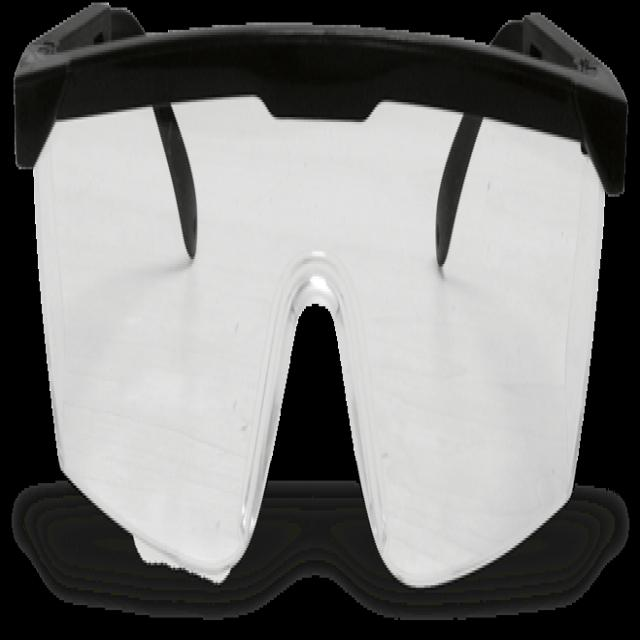Protective Glasses: (3, 0, 633, 628)
